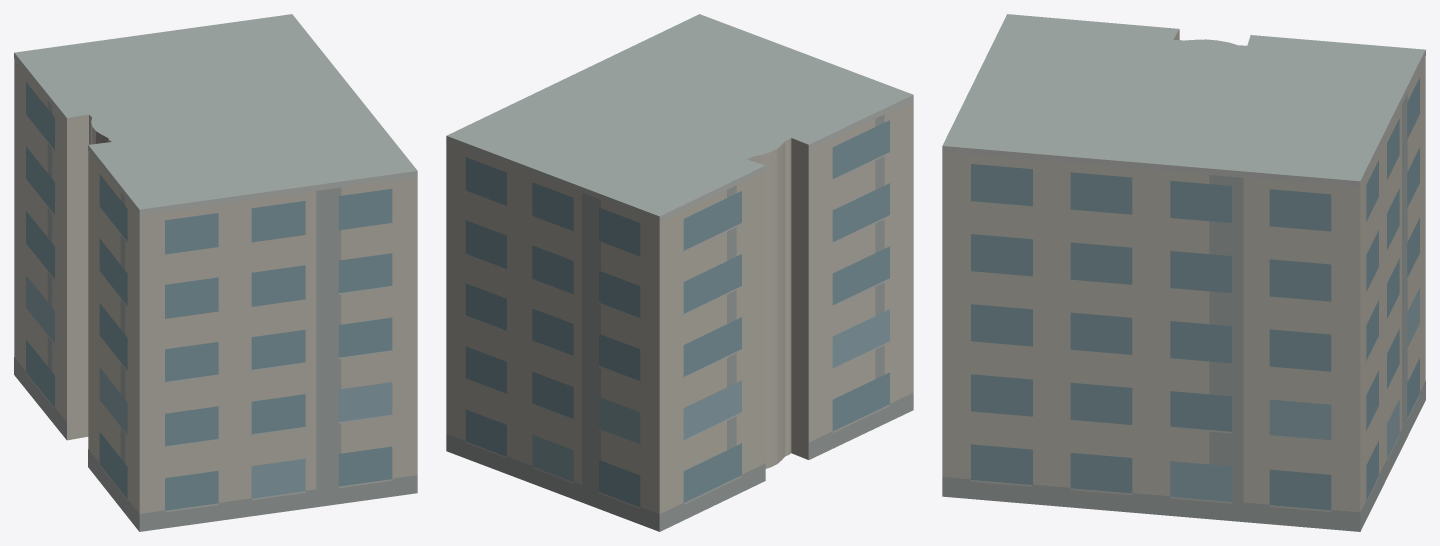
File: survey-upis-32885323.glb
3 views of the same model, side by side, from view 1: azimuth 30°, elevation 25°; view 2: azimuth 150°, elevation 25°; view 3: azimuth 270°, elevation 25° (orthographic). The views are drawn at different scales.
Parts seen in each view (by area): view 1: survey-upis-32885323.tmp; view 2: survey-upis-32885323.tmp; view 3: survey-upis-32885323.tmp.
Boxes of the visible parts, bbox=[...] form: survey-upis-32885323.tmp: bbox=[14, 14, 417, 531]; survey-upis-32885323.tmp: bbox=[446, 14, 913, 531]; survey-upis-32885323.tmp: bbox=[942, 14, 1425, 531].
Size of the model in its own units: 13.67 by 13.35 by 16.69.
